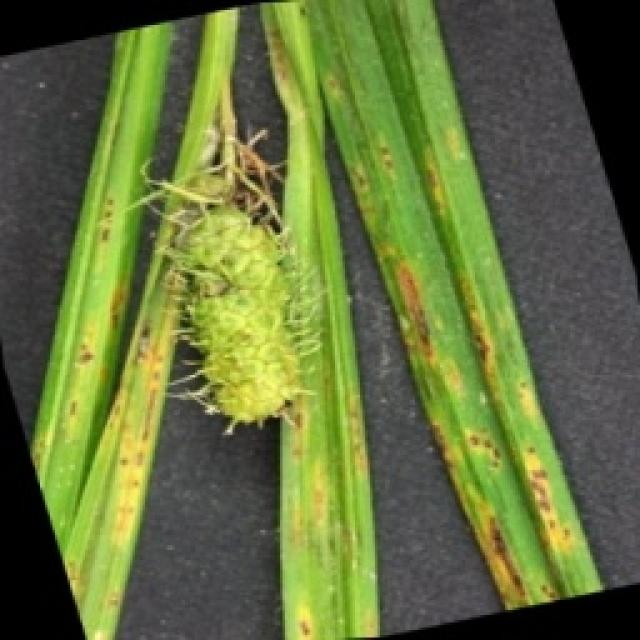Elderberry_rust: (160, 200, 318, 435)
